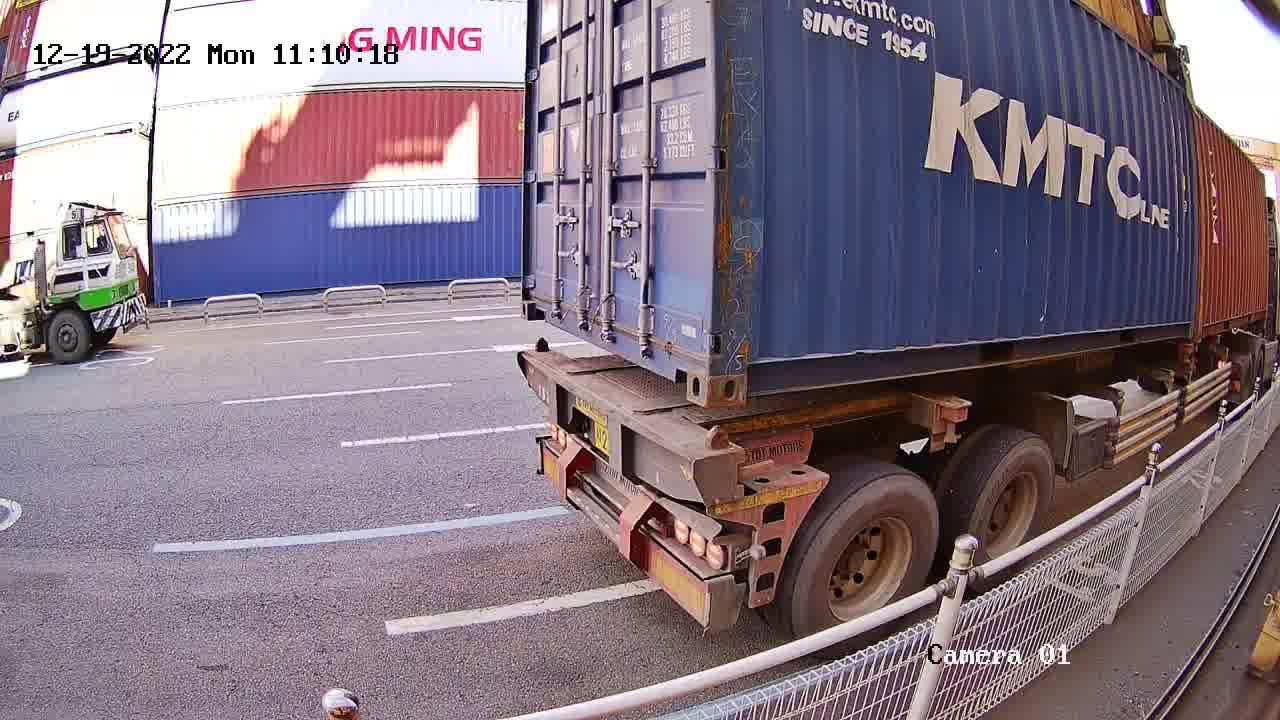Chassis: (522, 353, 740, 501)
Cone: (700, 424, 736, 499), (527, 335, 555, 358)
Hole_L: (707, 329, 775, 406), (520, 281, 554, 327)
Hole_R: (658, 326, 706, 407)
Tire: (793, 475, 939, 637), (969, 438, 1057, 563)
